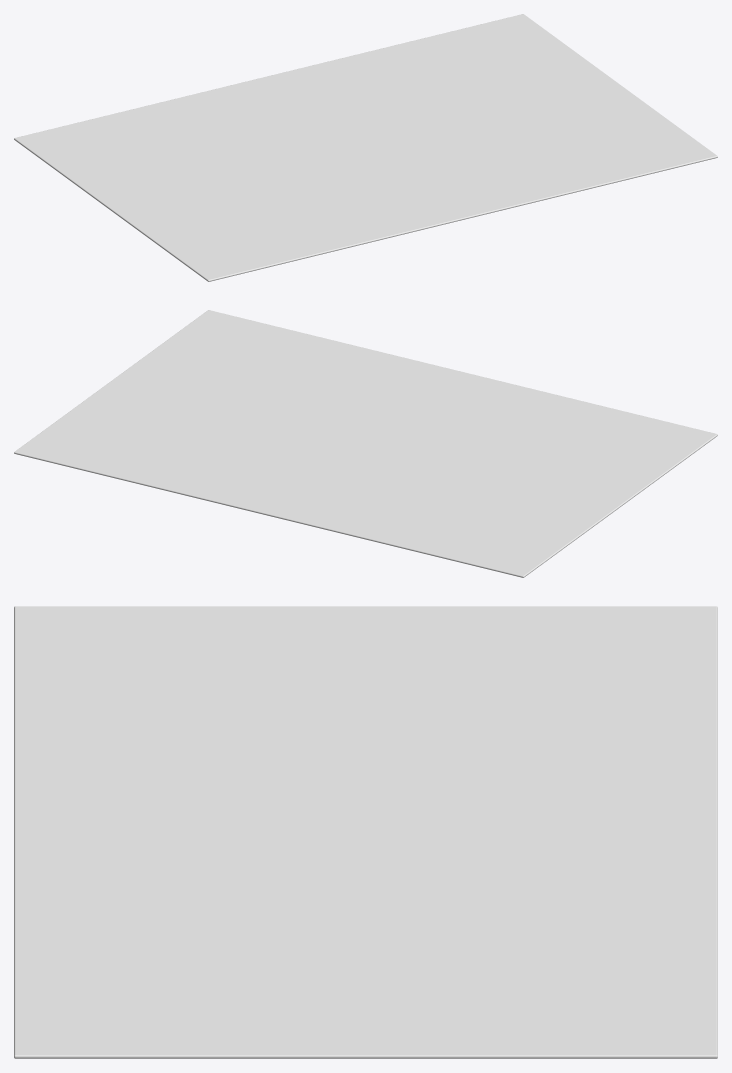
Rendered from woven-rug-v1.glb.
The picture shows the model from 3 angles, top to bottom: view 1: azimuth 30°, elevation 25°; view 2: azimuth 150°, elevation 25°; view 3: azimuth 270°, elevation 25°; orthographic projection. The views are drawn at different scales.
Visible parts, largest first — view 1: Bound woven rug; view 2: Bound woven rug; view 3: Bound woven rug.
Part boxes in pixels (box(x1,y1,x2,y2)): Bound woven rug: box(14, 14, 717, 281); Bound woven rug: box(14, 310, 717, 577); Bound woven rug: box(14, 606, 717, 1058).
Size of the model in its own units: 5.9 by 0.022 by 3.9.
1 material, 1 textured.
